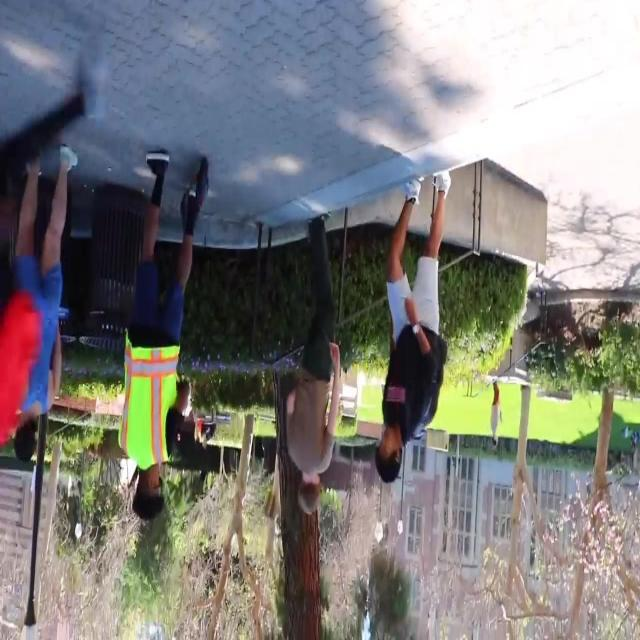jacket: (107, 326, 187, 474)
